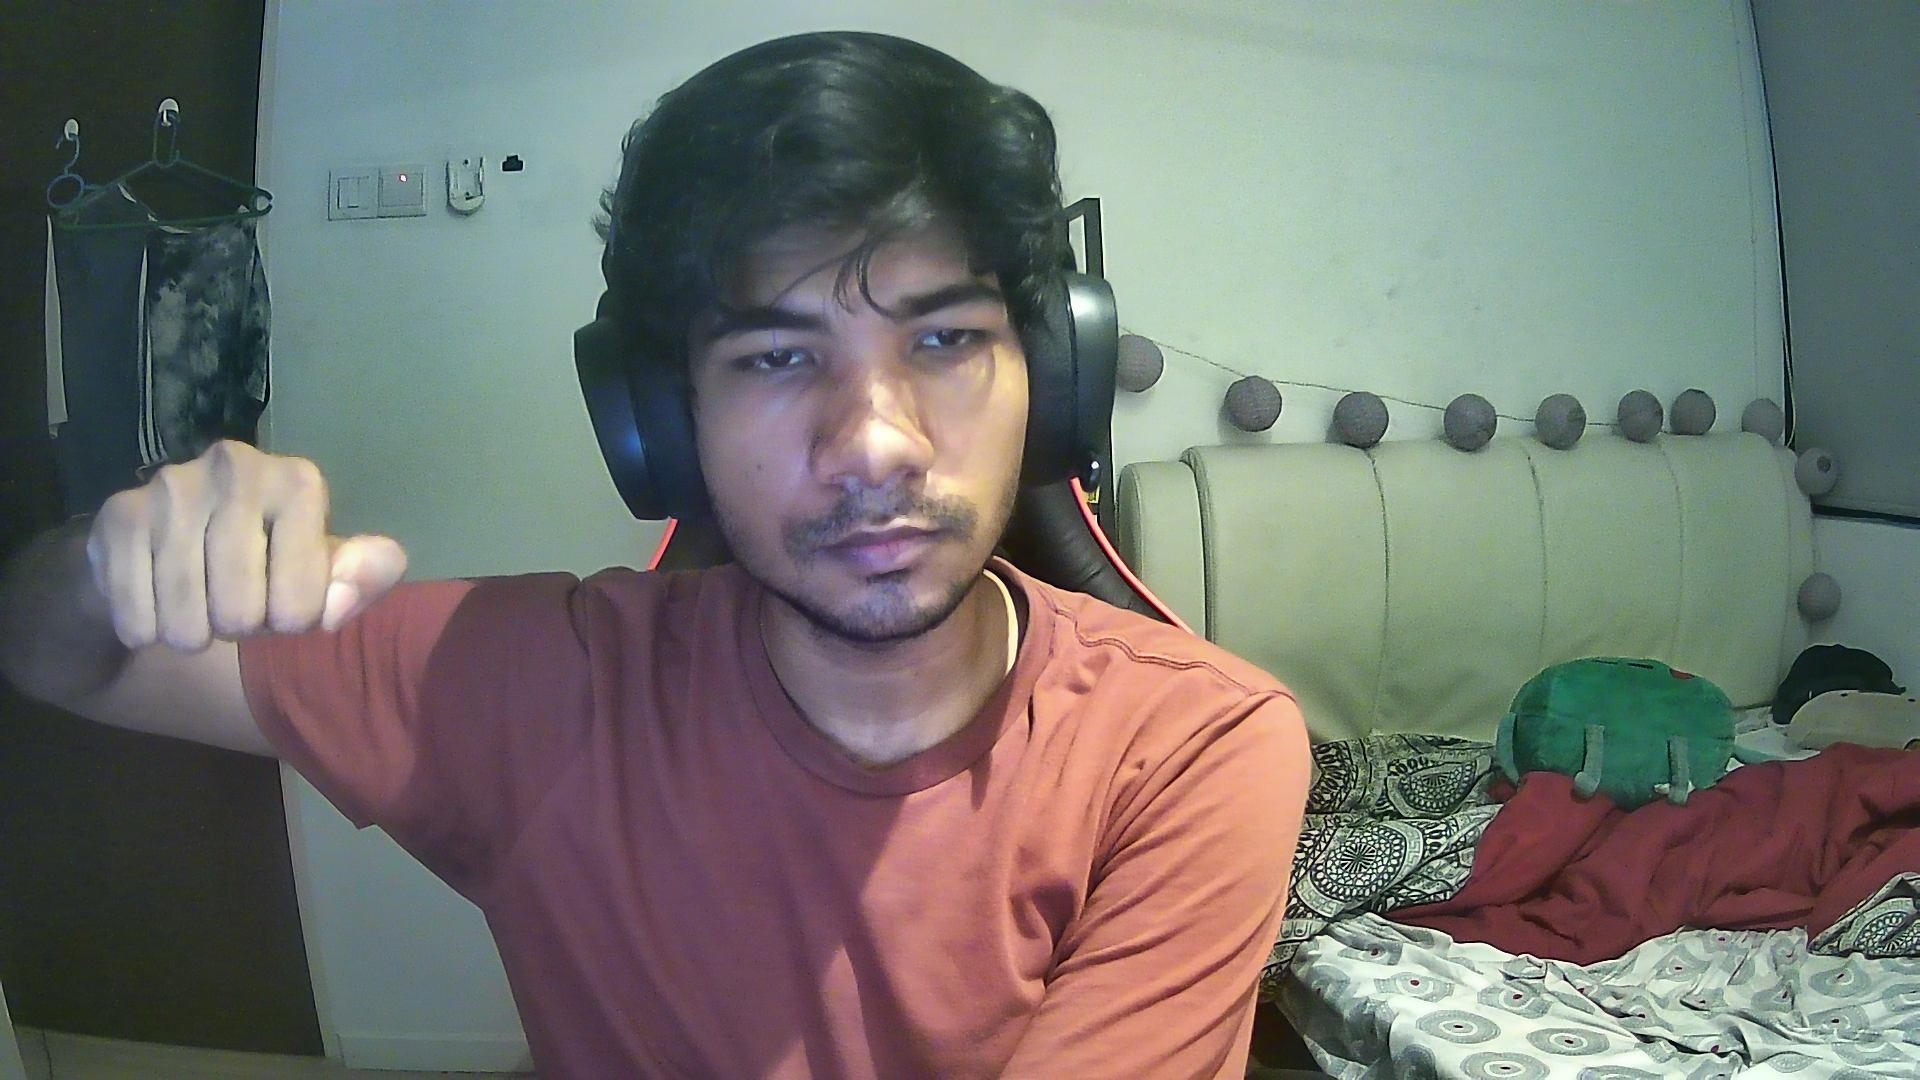Yes: (83, 427, 413, 671)
